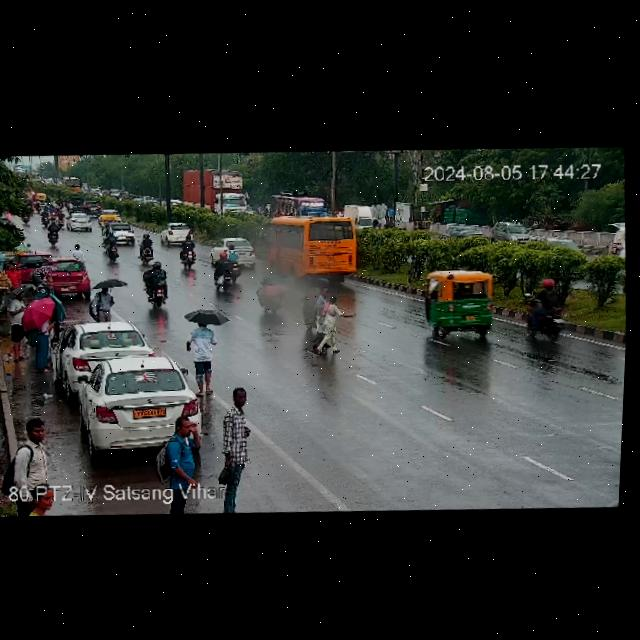bus: (267, 208, 371, 291), (270, 191, 328, 220), (62, 175, 83, 194)
car: (61, 348, 212, 457), (49, 317, 154, 386), (424, 271, 498, 336), (44, 257, 92, 296), (206, 237, 254, 267), (491, 219, 533, 247), (157, 222, 195, 246), (102, 223, 139, 247), (531, 233, 577, 251), (64, 213, 93, 232), (77, 199, 104, 214), (99, 213, 118, 225), (111, 209, 124, 222), (372, 218, 384, 232), (37, 192, 46, 202)
motorcycle: (215, 387, 261, 515), (526, 280, 573, 341), (140, 261, 172, 308), (257, 267, 287, 314), (298, 276, 323, 330), (207, 252, 241, 291), (177, 239, 203, 270), (136, 236, 160, 263), (103, 241, 123, 262), (47, 220, 59, 248), (56, 209, 65, 228), (41, 207, 50, 226), (21, 214, 31, 225), (50, 205, 57, 220), (36, 200, 43, 212), (68, 202, 75, 213), (58, 198, 65, 209), (257, 206, 264, 215), (46, 197, 51, 206), (52, 200, 57, 208)
person: (8, 420, 58, 492), (157, 416, 202, 494), (182, 318, 226, 397), (313, 286, 349, 358), (6, 285, 29, 361), (86, 279, 120, 322), (33, 311, 52, 371), (7, 262, 24, 291), (32, 275, 46, 293), (71, 243, 85, 260)
truck: (177, 168, 251, 217)
